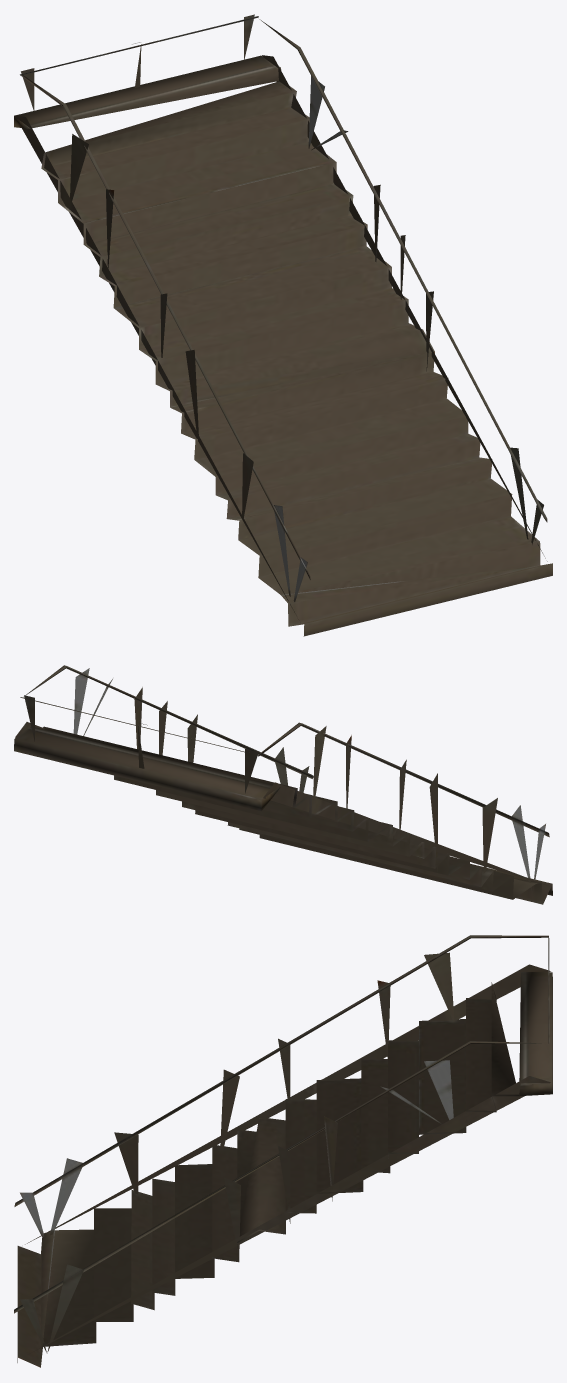
The picture shows the model from 3 angles, top to bottom: view 1: azimuth 30°, elevation 25°; view 2: azimuth 150°, elevation 25°; view 3: azimuth 270°, elevation 25°; orthographic projection. The views are drawn at different scales.
Size of the model in its own units: 3 by 4 by 6.
1 material, 1 textured.
